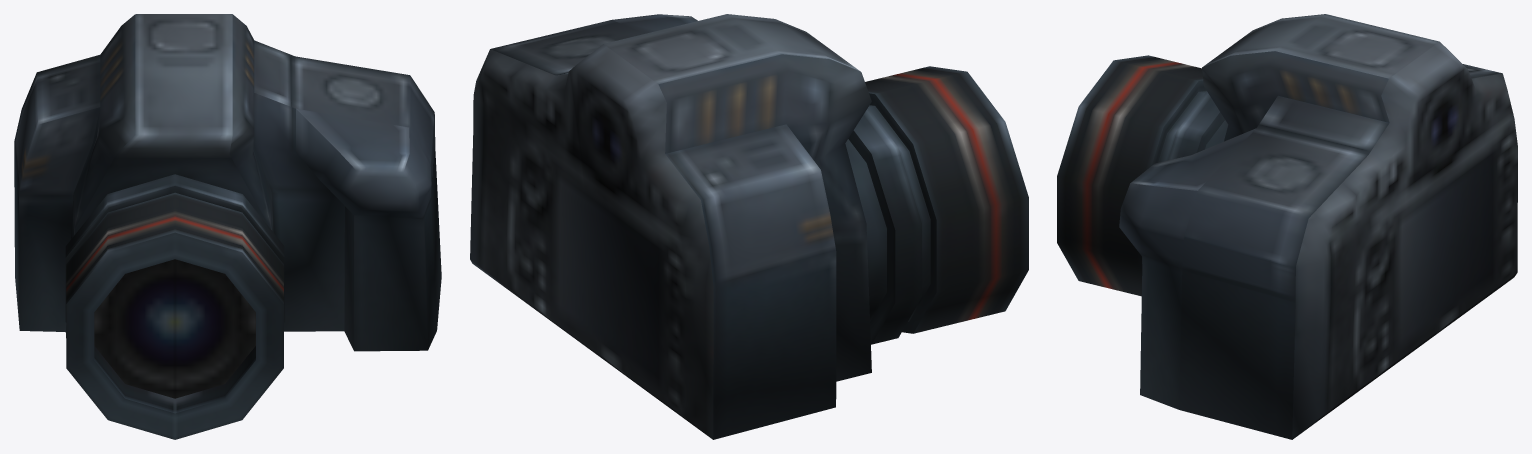
The model's file is ShenMiRenJia_01_zhaoxiangji_01.FBX.
The picture shows the model from 3 angles, left to right: view 1: azimuth 30°, elevation 25°; view 2: azimuth 150°, elevation 25°; view 3: azimuth 270°, elevation 25°; orthographic projection. The views are drawn at different scales.
Parts seen in each view (by area): view 1: ShenMiRenJia_01_zhaoxiangji_01; view 2: ShenMiRenJia_01_zhaoxiangji_01; view 3: ShenMiRenJia_01_zhaoxiangji_01.
Boxes of the visible parts, bbox=[...] form: ShenMiRenJia_01_zhaoxiangji_01: bbox=[14, 14, 441, 439]; ShenMiRenJia_01_zhaoxiangji_01: bbox=[470, 14, 1028, 439]; ShenMiRenJia_01_zhaoxiangji_01: bbox=[1057, 14, 1517, 439].
Bounding box in the file's own units: 125 × 78 × 111.
